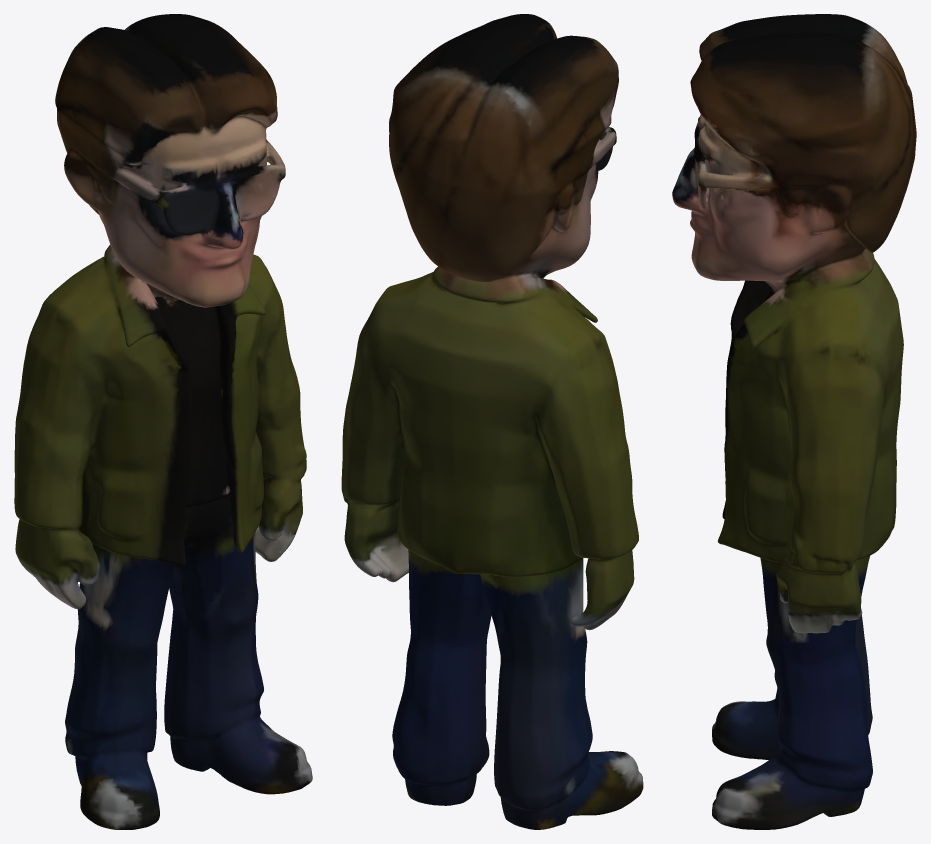
Rendered from jacopo-ps2-hybrid.glb.
The picture shows the model from 3 angles, left to right: view 1: azimuth 30°, elevation 25°; view 2: azimuth 150°, elevation 25°; view 3: azimuth 270°, elevation 25°; orthographic projection.
Visible parts, largest first — view 1: world.001; view 2: world.001; view 3: world.001.
Part boxes in pixels (x1,y1,x2,y2): world.001: (14,14,312,829); world.001: (341,14,643,829); world.001: (672,14,916,829).
Bounding box in the file's own units: 0.7774 × 1.99 × 0.5887.
